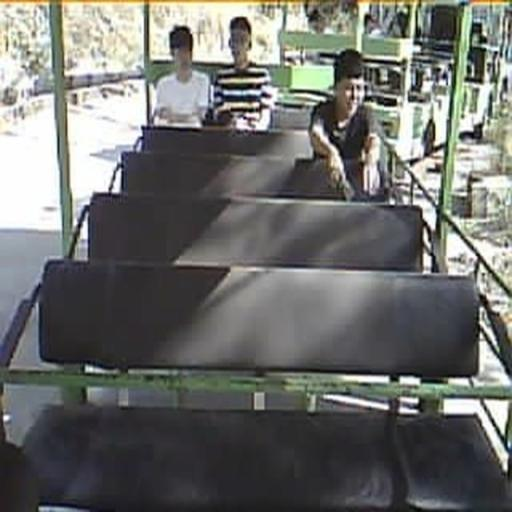persona: (307, 48, 387, 202), (210, 16, 277, 130), (151, 24, 212, 127)
